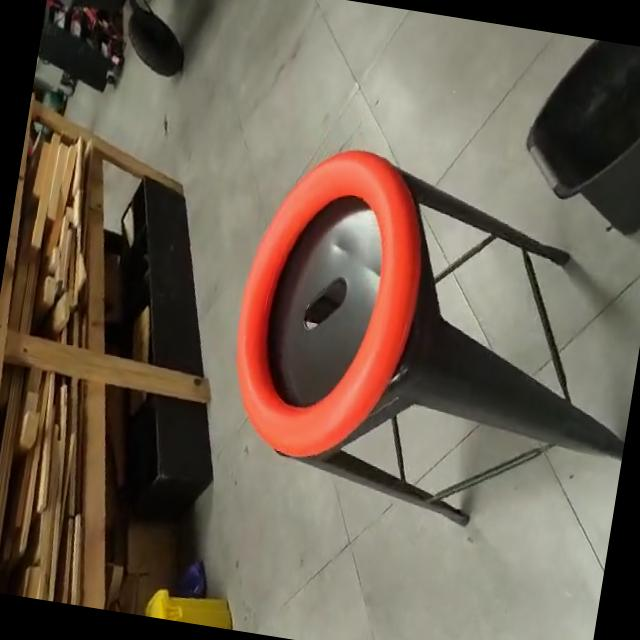note: (218, 132, 440, 472)
